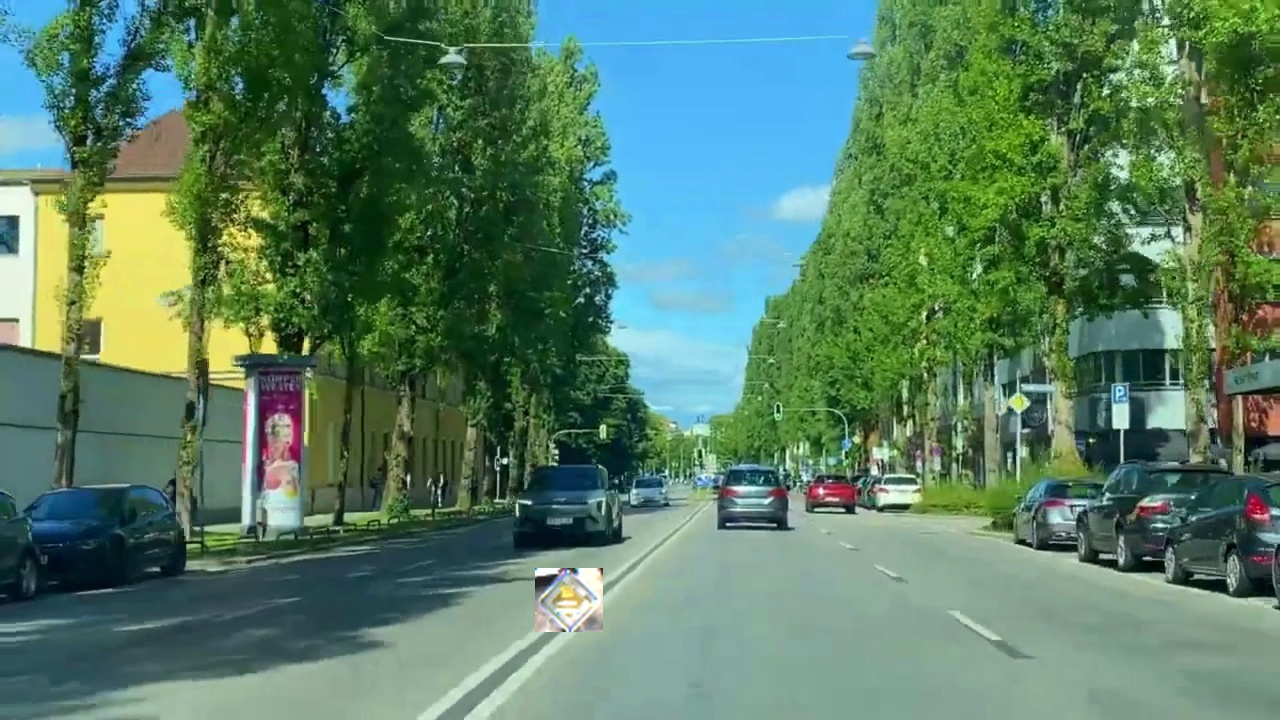Priority road: (535, 568, 603, 632)
